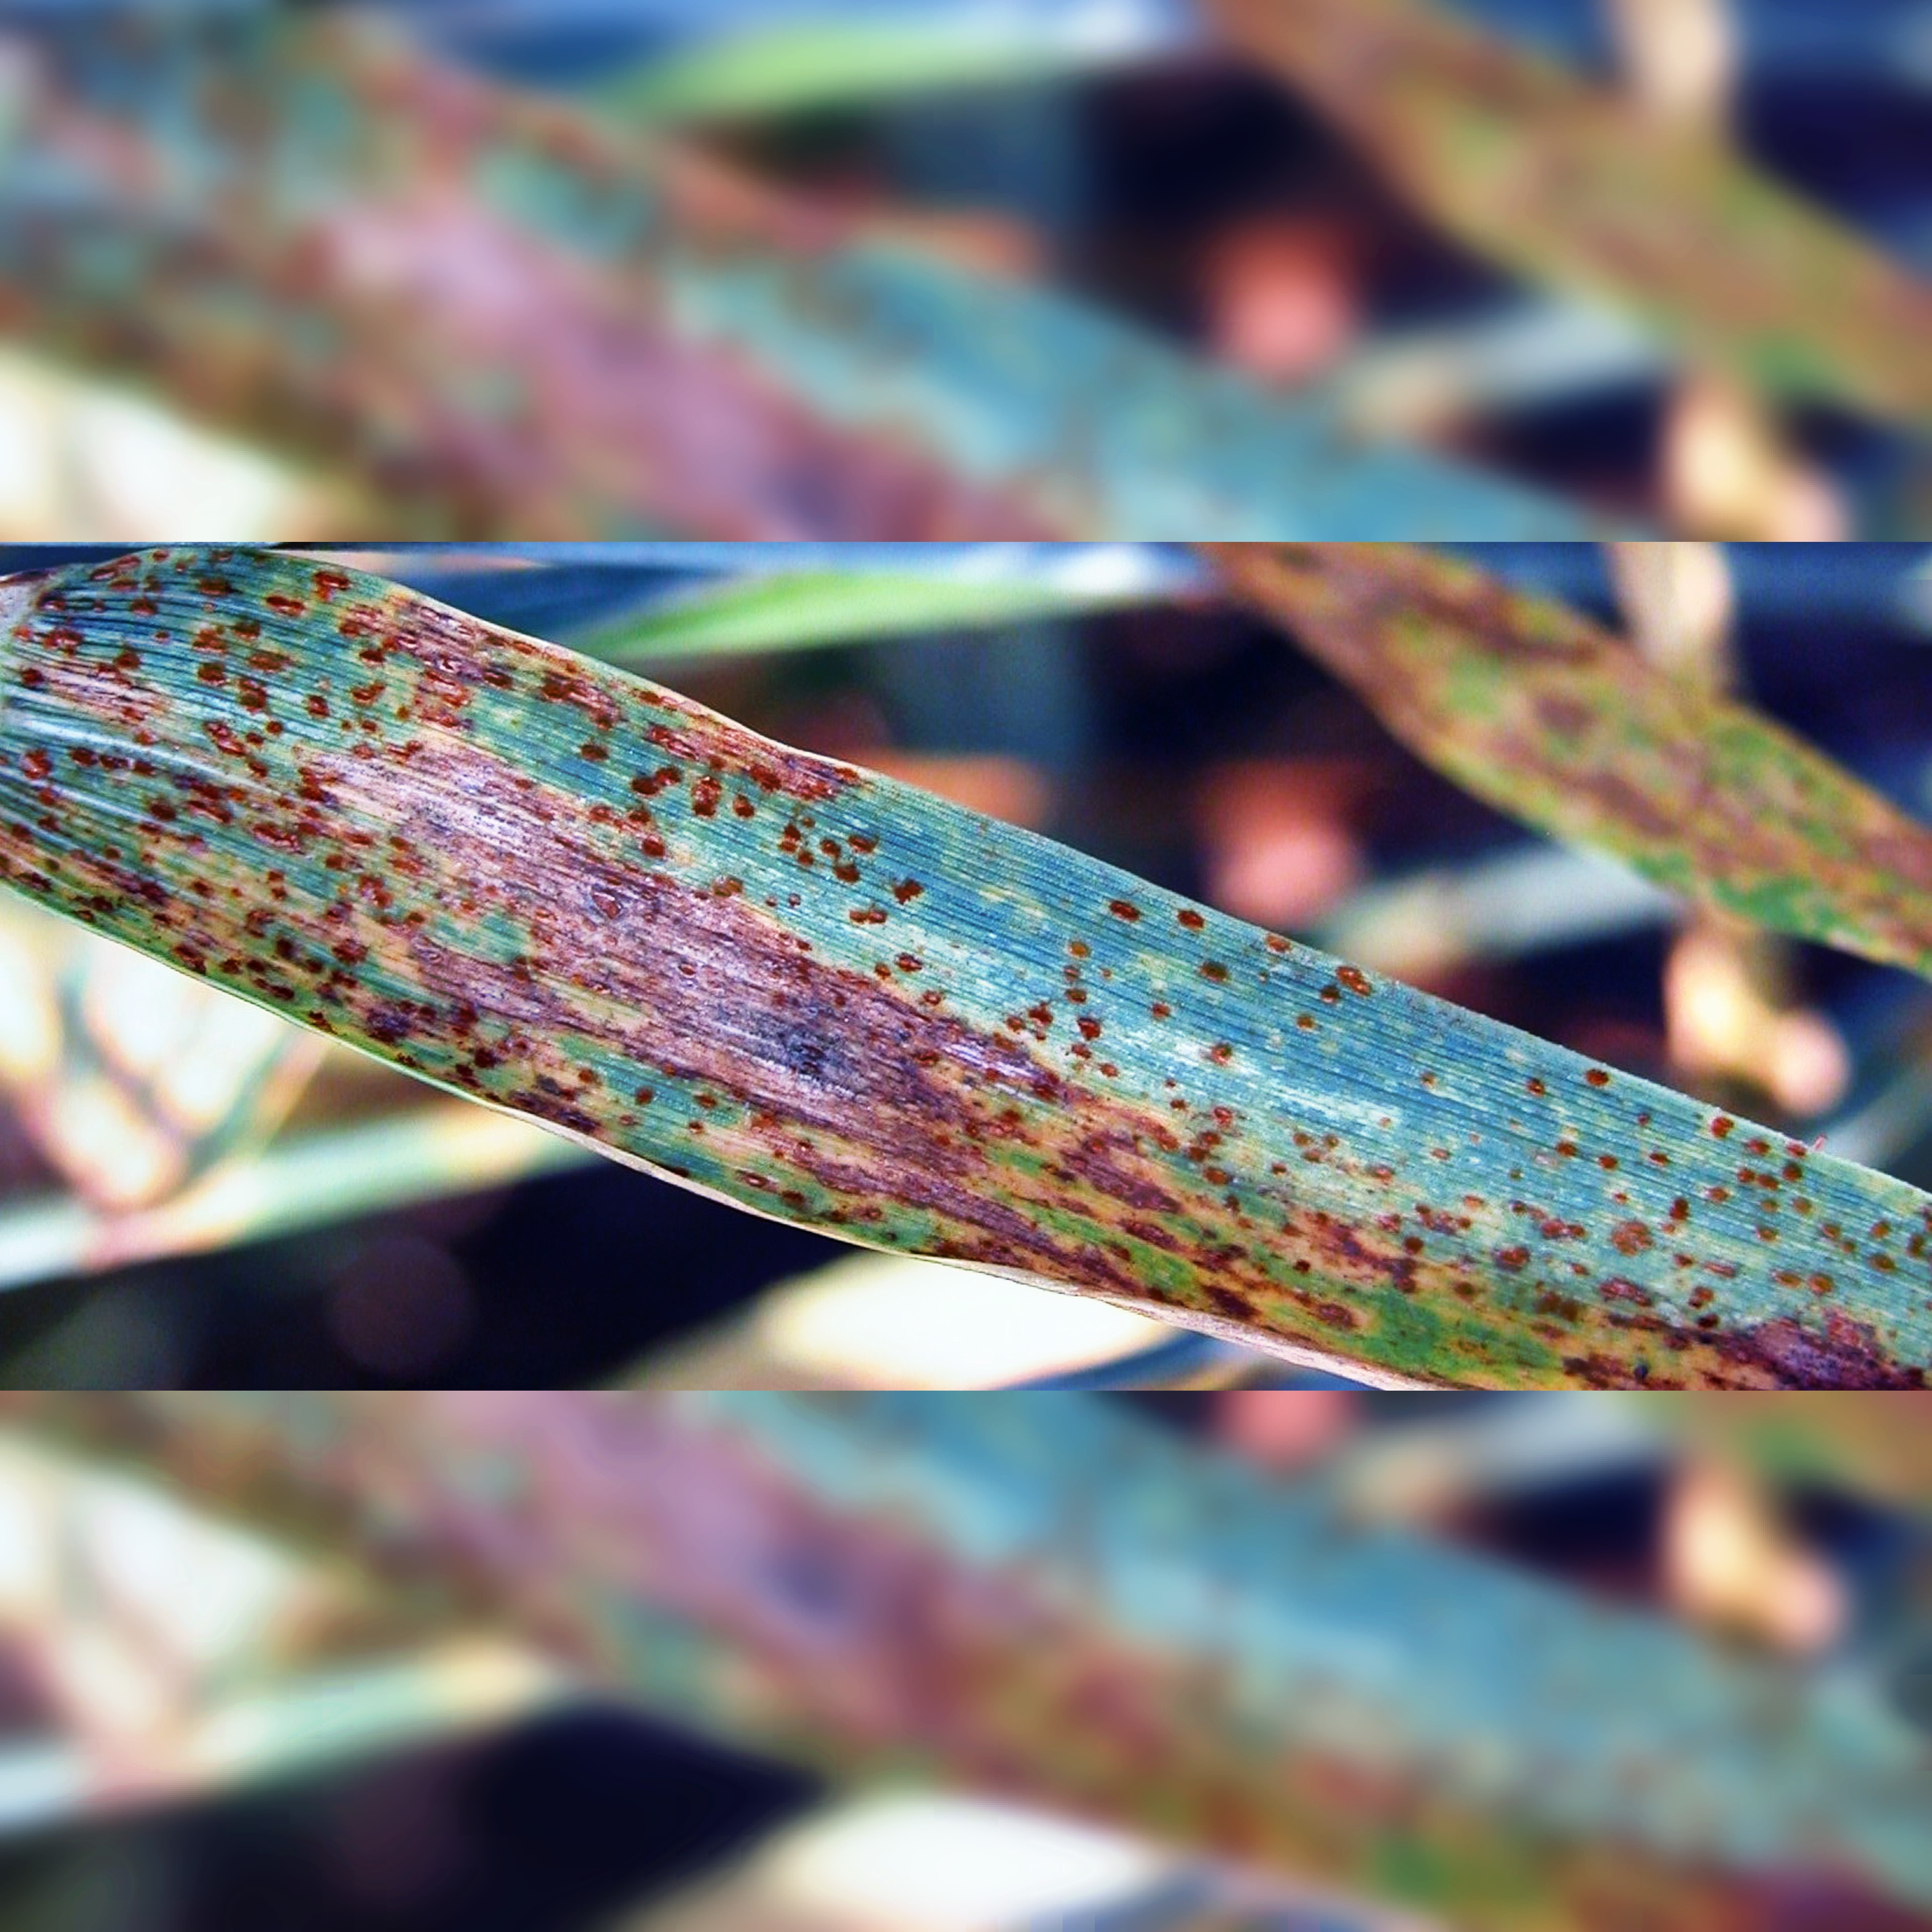Leaf Rust: (35, 621, 1812, 1375)
